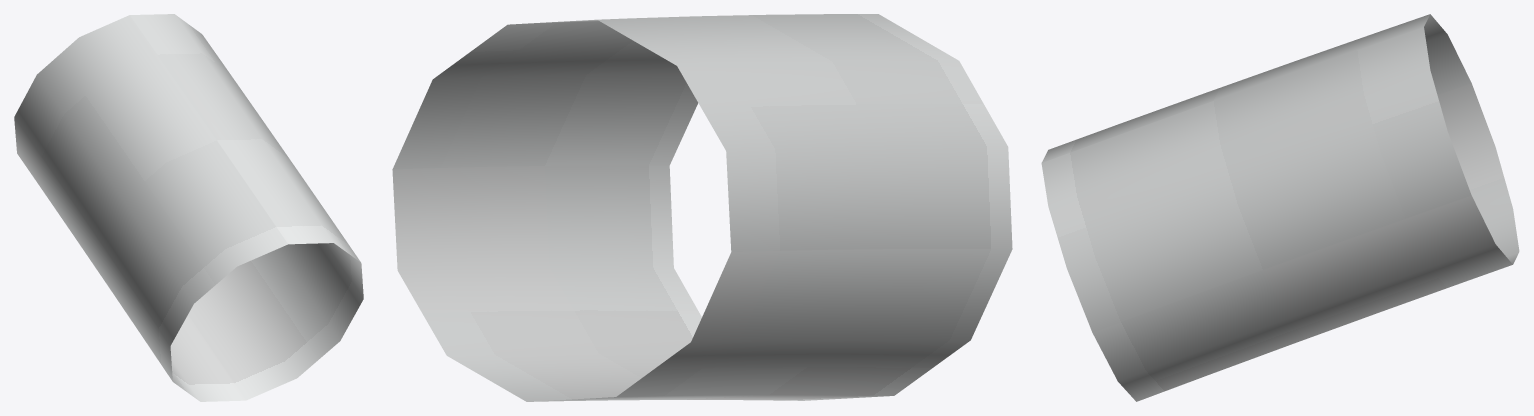
Rendered from luminairearm_truss15ft_c2.obj.
3 renders of one model, left to right at view 1: azimuth 30°, elevation 25°; view 2: azimuth 150°, elevation 25°; view 3: azimuth 270°, elevation 25°, orthographic. The views are drawn at different scales.
Visible parts, largest first — view 1: luminairearm_truss15ft_c2; view 2: luminairearm_truss15ft_c2; view 3: luminairearm_truss15ft_c2.
Part boxes in pixels (x1,y1,x2,y2): luminairearm_truss15ft_c2: [14, 14, 363, 401]; luminairearm_truss15ft_c2: [392, 14, 1012, 401]; luminairearm_truss15ft_c2: [1041, 14, 1519, 401].
Bounding box in the file's own units: 0.2192 × 0.3254 × 0.3898.
